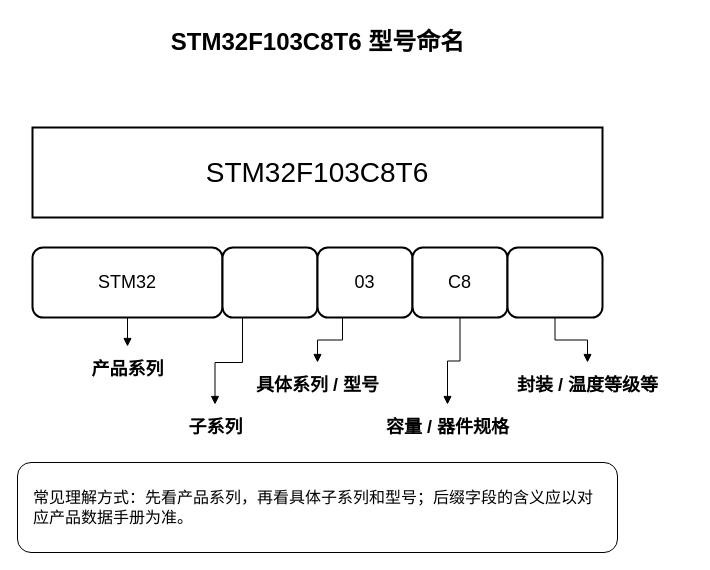
This 710x570 diagram has some shape labels left out. The shapes that lost their labels are listed below. From the top down, each one's centre as x and y in pixels, then its label:
At point 269,282: "F1".
At point 554,282: "T6".
